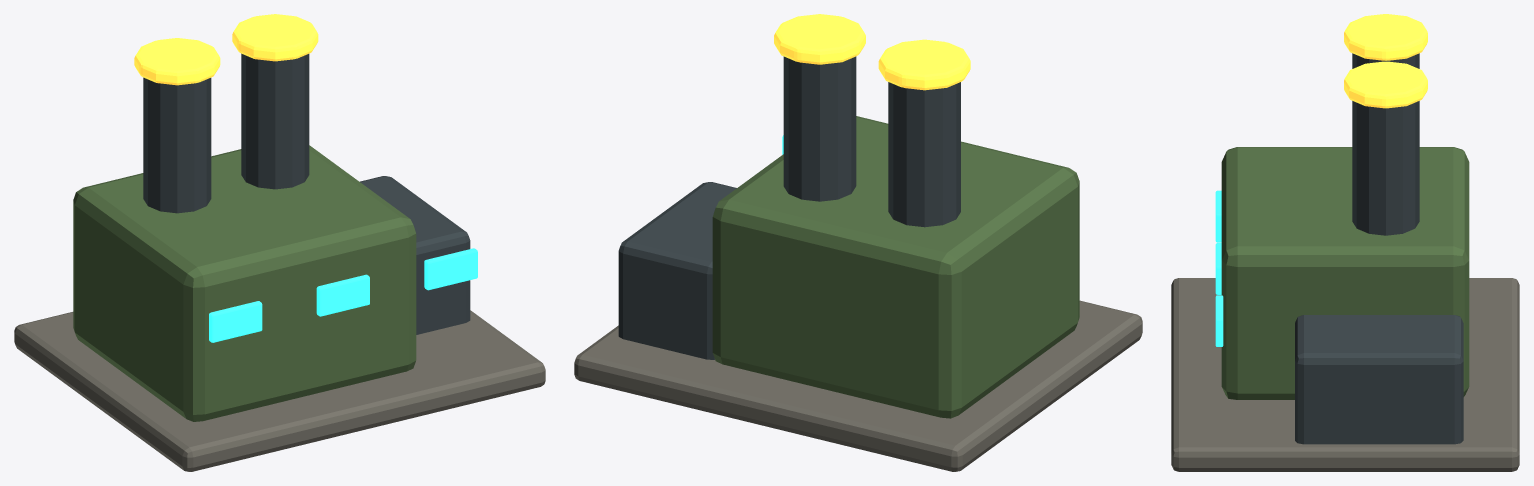
The model's file is human_industry.glb.
3 views of the same model, side by side, from view 1: azimuth 30°, elevation 25°; view 2: azimuth 150°, elevation 25°; view 3: azimuth 270°, elevation 25° (orthographic). The views are drawn at different scales.
Parts seen in each view (by area): view 1: Plant, Foundation, Stack.001, Stack, ServiceWing, StackCap.001, StackCap, Vent.002, Vent.001, Vent; view 2: Plant, Foundation, ServiceWing, Stack.001, Stack, StackCap, StackCap.001; view 3: Plant, Foundation, ServiceWing, Stack.001, StackCap.001, StackCap, Vent.002, Stack.
Part boxes in pixels (x1,y1,x2,y2): Plant: (73, 145, 416, 421); Foundation: (14, 310, 545, 471); Stack.001: (241, 53, 309, 189); Stack: (143, 77, 211, 213); ServiceWing: (360, 176, 470, 334); StackCap.001: (232, 14, 318, 61); StackCap: (134, 38, 220, 85); Vent.002: (424, 248, 477, 290); Vent.001: (316, 274, 369, 316); Vent: (209, 301, 262, 342); Plant: (712, 116, 1079, 418); Foundation: (574, 300, 1142, 471); ServiceWing: (618, 182, 736, 359); Stack.001: (783, 56, 856, 201); Stack: (888, 82, 960, 227); StackCap: (878, 39, 970, 90); StackCap.001: (774, 14, 865, 64); Plant: (1221, 147, 1469, 399); Foundation: (1171, 278, 1519, 471); ServiceWing: (1295, 315, 1463, 444); Stack.001: (1352, 101, 1419, 235); StackCap.001: (1344, 61, 1427, 108); StackCap: (1344, 14, 1427, 60); Vent.002: (1215, 295, 1223, 346); Stack: (1352, 53, 1419, 68).
Size of the model in its own units: 1.85 by 1.55 by 1.55.
